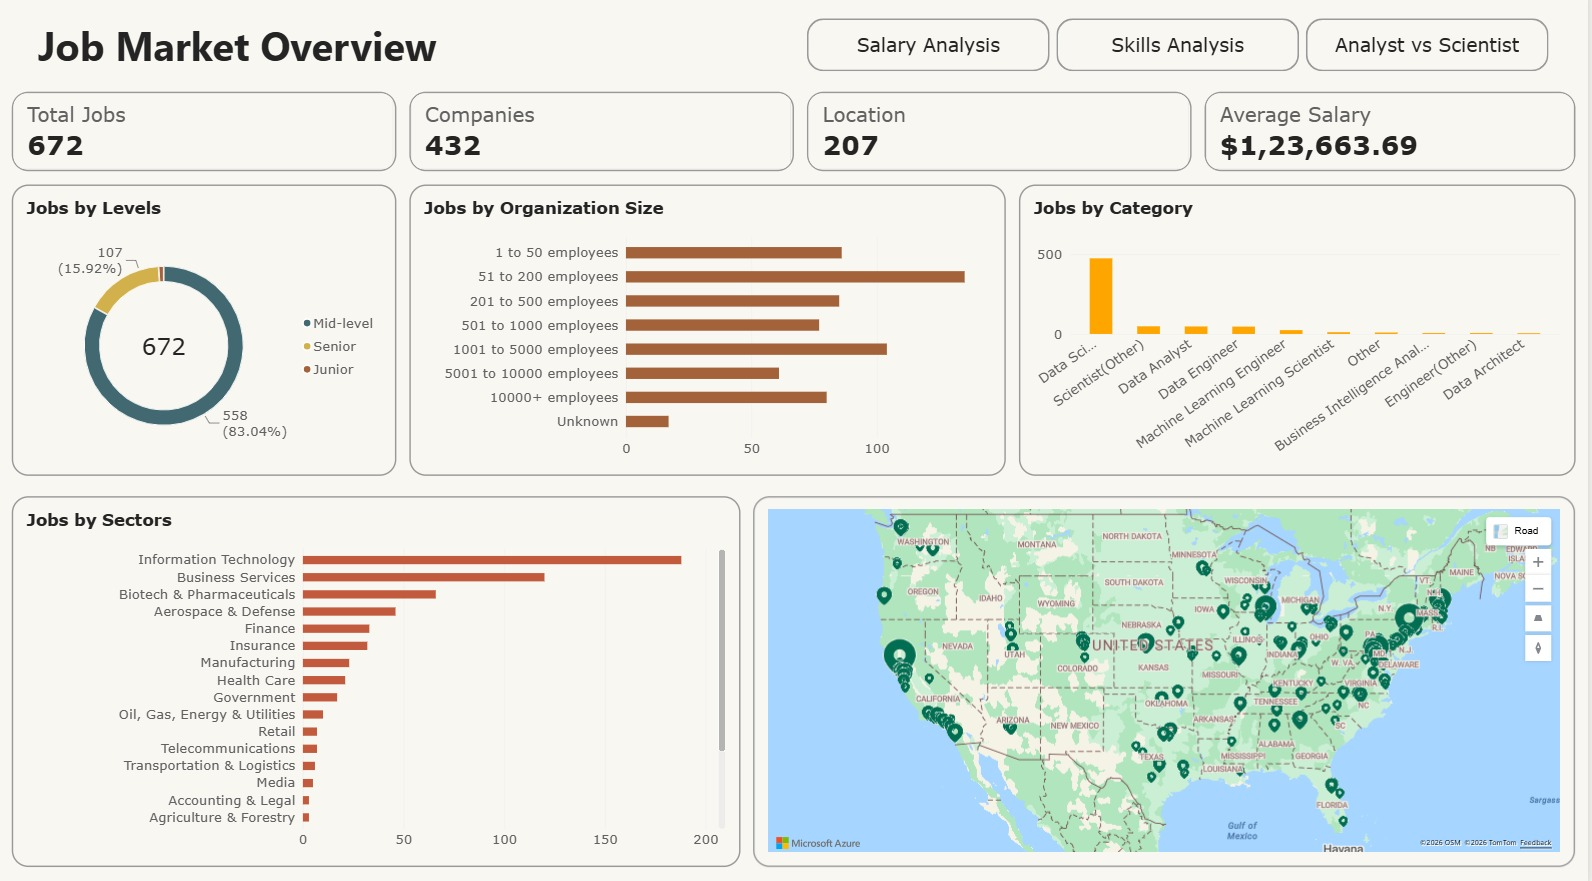

The dashboard page shown, as its layout file describes it:
{"tool":"powerbi","page":{"name":"Job Market Overview","canvas":[1920,1080],"ordinal":0},"visuals":[{"type":"cardVisual","fields":{"Data":["CountNonNull(job_postings.Job ID)"]},"box":[16,120.3,464,96],"z":0},{"type":"cardVisual","fields":{"Data":["Count(job_postings.Company Name)"]},"box":[496,120.3,464,96],"z":1000},{"type":"cardVisual","fields":{"Data":["Count(job_postings.Location)"]},"box":[976,120.3,464,96],"z":2000},{"type":"cardVisual","fields":{"Data":["Avg(job_postings.Salary Avg)"]},"box":[1456,120.3,448,96],"z":3000},{"type":"donutChart","title":"Jobs by Levels","fields":{"Category":["job_postings.Job Level"],"Y":["CountNonNull(job_postings.Job ID)"]},"box":[16,232.3,464,352],"z":4000},{"type":"clusteredColumnChart","title":"Jobs by Category","fields":{"Category":["job_postings.Job Short Title"],"Y":["CountNonNull(job_postings.Job ID)"]},"box":[1232,232.3,672,352],"z":5000},{"type":"barChart","title":"Jobs by Sectors","fields":{"Category":["job_postings.Sector"],"Y":["CountNonNull(job_postings.Job ID)"]},"box":[16,608,880,448],"z":6000},{"type":"azureMap","title":"Jobs by Location","fields":{"Category":["job_postings.Location"],"Size":["CountNonNull(job_postings.Job ID)"]},"box":[912,608,992,448],"z":7000},{"type":"clusteredBarChart","title":"Jobs by Organization Size","fields":{"Category":["job_postings.Size"],"Y":["Count(job_postings.Job ID)"]},"box":[496,232.3,720,352],"z":8000},{"type":"textbox","box":[16,32,544,96],"z":9000},{"type":"pageNavigator","box":[976,32,896,64],"z":10000}]}

Visuals, with their boxes in screenshot pixels (x1, y1, x2, y2), scaled from the page's 1920x1080 canvas onto the 1592x881 screenshot:
cardVisual - CountNonNull(job_postings.Job ID): bbox=[13, 98, 398, 176]
cardVisual - Count(job_postings.Company Name): bbox=[411, 98, 796, 176]
cardVisual - Count(job_postings.Location): bbox=[809, 98, 1194, 176]
cardVisual - Avg(job_postings.Salary Avg): bbox=[1207, 98, 1579, 176]
"Jobs by Levels" donutChart: bbox=[13, 189, 398, 477]
"Jobs by Category" clusteredColumnChart: bbox=[1022, 189, 1579, 477]
"Jobs by Sectors" barChart: bbox=[13, 496, 743, 861]
"Jobs by Location" azureMap: bbox=[756, 496, 1579, 861]
"Jobs by Organization Size" clusteredBarChart: bbox=[411, 189, 1008, 477]
textbox: bbox=[13, 26, 464, 104]
pageNavigator: bbox=[809, 26, 1552, 78]
